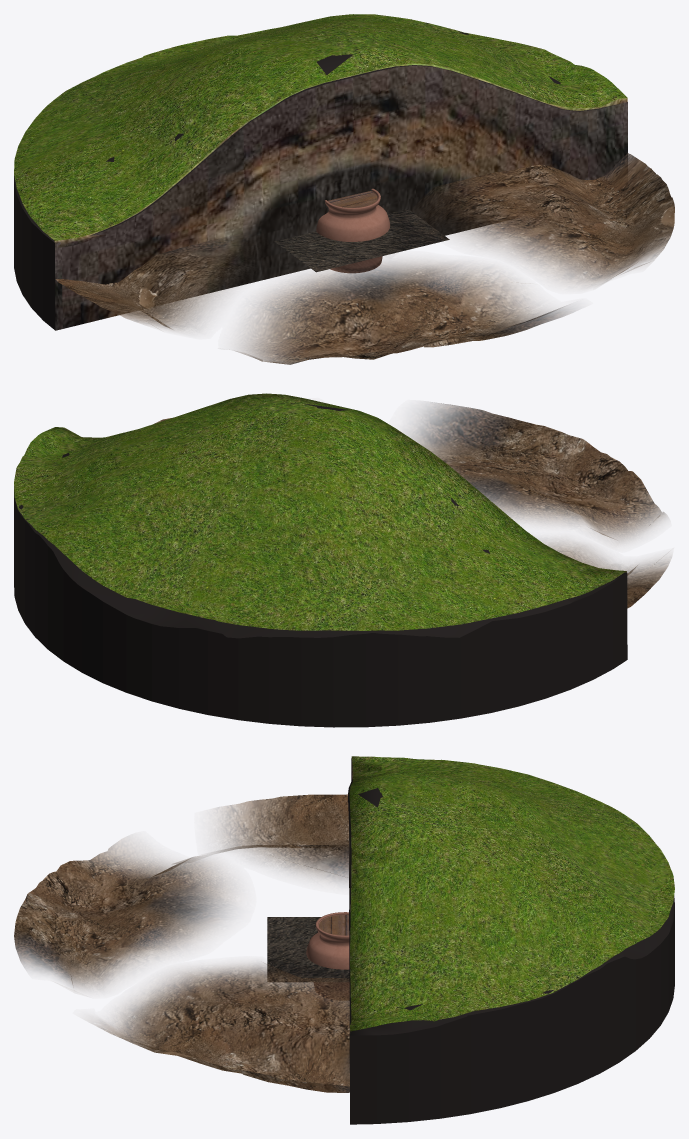
The picture shows the model from 3 angles, top to bottom: view 1: azimuth 30°, elevation 25°; view 2: azimuth 150°, elevation 25°; view 3: azimuth 270°, elevation 25°; orthographic projection.
Parts seen in each view (by area): view 1: Cube.005, Plane, Cube.006, Plane.001, Cylinder, Circle; view 2: Cube.006, Cube.005, Plane; view 3: Cube.006, Plane, Cube.005, Plane.001, Cylinder.
Part boxes in pixels (left/top/right/bottom): Cube.005: left=14, top=31, right=627, bottom=330; Plane: left=55, top=153, right=674, bottom=364; Cube.006: left=14, top=14, right=627, bottom=247; Plane.001: left=274, top=209, right=449, bottom=272; Cylinder: left=316, top=188, right=390, bottom=273; Circle: left=328, top=191, right=377, bottom=207; Cube.006: left=14, top=393, right=626, bottom=630; Cube.005: left=14, top=403, right=627, bottom=727; Plane: left=154, top=402, right=671, bottom=608; Cube.006: left=349, top=756, right=674, bottom=1033; Plane: left=14, top=794, right=349, bottom=1092; Cube.005: left=348, top=758, right=674, bottom=1124; Plane.001: left=267, top=917, right=349, bottom=982; Cylinder: left=306, top=912, right=349, bottom=999.
Bounding box in the file's own units: 17.22 × 5.75 × 17.22.
8 materials, 6 textured.
